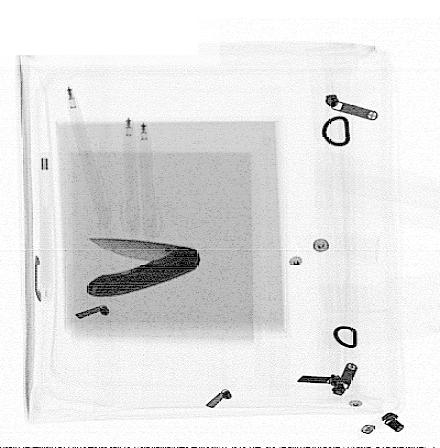Knife: (83, 237, 204, 300)
